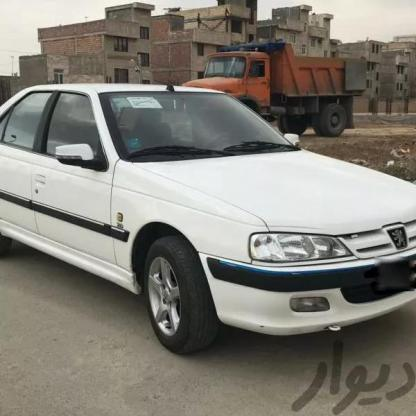Car: (0, 78, 416, 348)
Truck: (178, 44, 380, 140)
